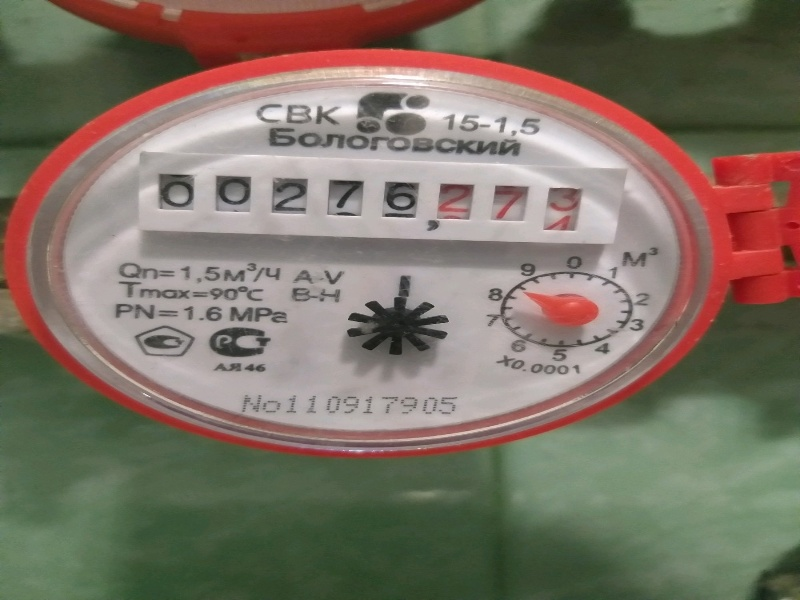meter: (145, 165, 627, 228)
